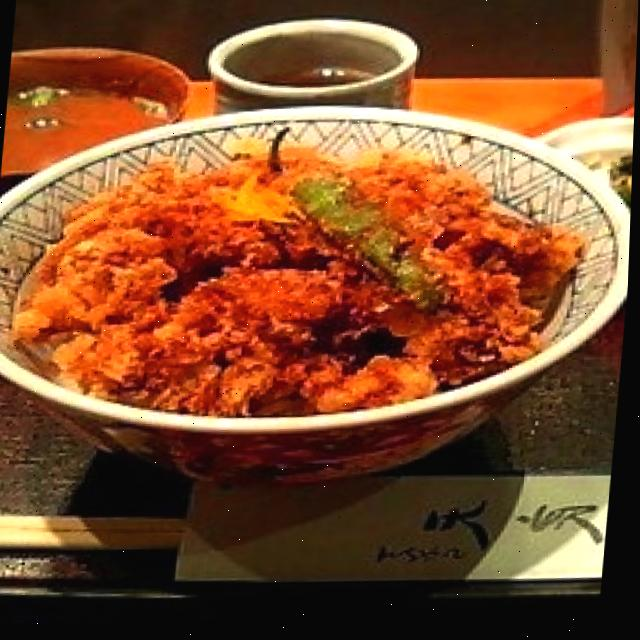汤锅炖物: (1, 38, 202, 190)
熟制海鲜: (0, 74, 637, 487)
